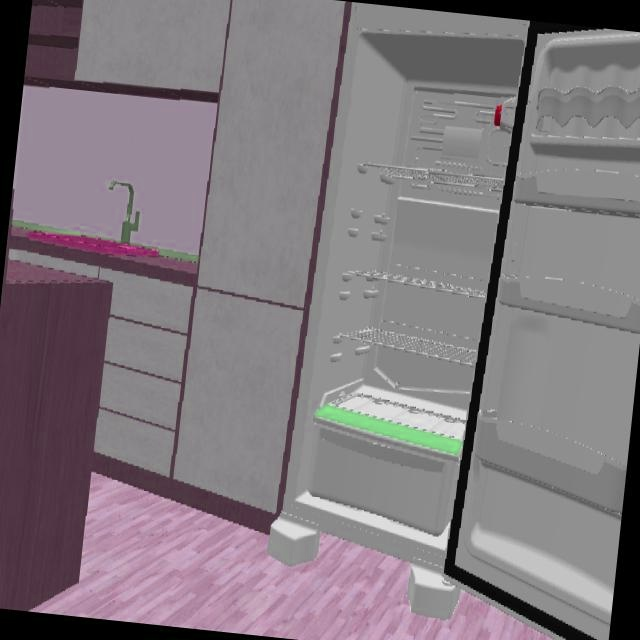cabinet: (6, 0, 345, 448)
countertop: (11, 236, 198, 287)
fridge: (284, 26, 640, 640)
sink: (14, 221, 197, 262)
